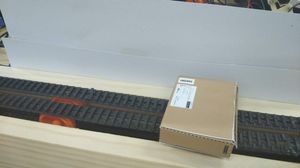box2: (158, 75, 241, 158)
